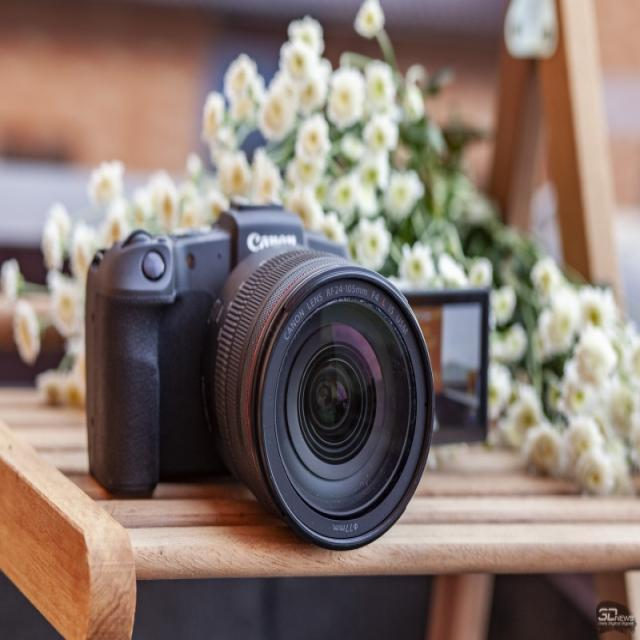hidden camera: (244, 268, 448, 558)
